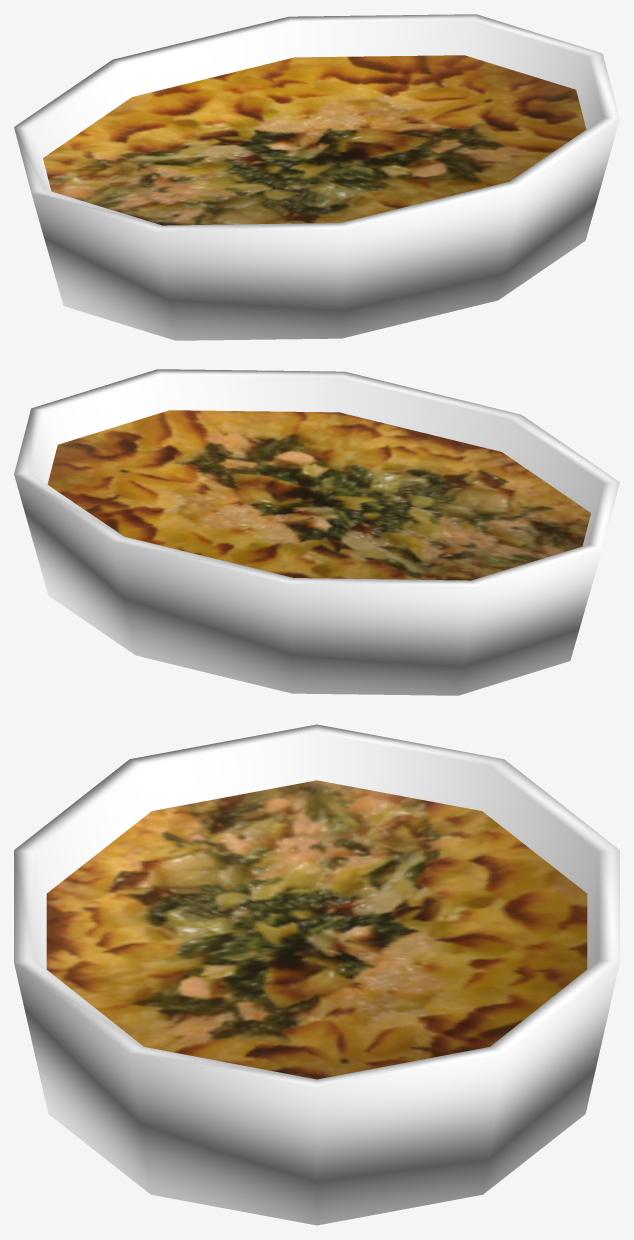
The model's file is Grain.fbx.
3 views of the same model, one above another, from view 1: azimuth 30°, elevation 25°; view 2: azimuth 150°, elevation 25°; view 3: azimuth 270°, elevation 25° (orthographic). The views are drawn at different scales.
Parts seen in each view (by area): view 1: Gratin; view 2: Gratin; view 3: Gratin.
Part boxes in pixels (box(x1,y1,x2,y2)): Gratin: box(14, 14, 619, 340); Gratin: box(14, 369, 619, 695); Gratin: box(14, 724, 619, 1225).
Size of the model in its own units: 0.37 by 0.0748 by 0.2604.
